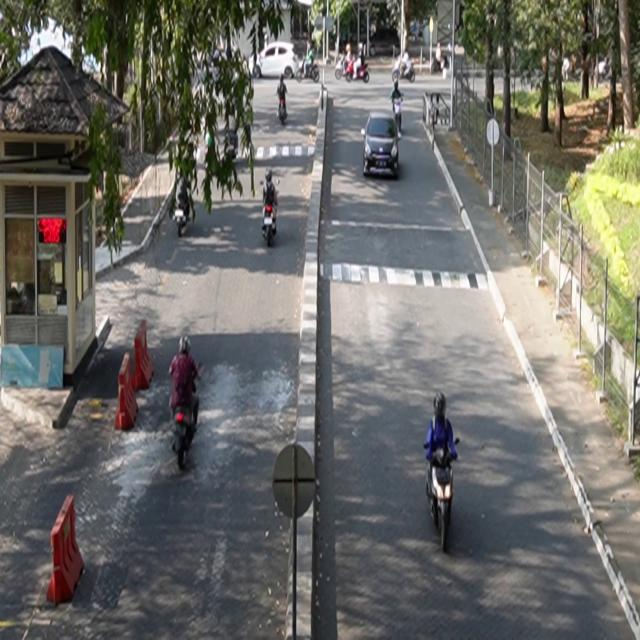car: (362, 111, 401, 178), (250, 42, 300, 80)
